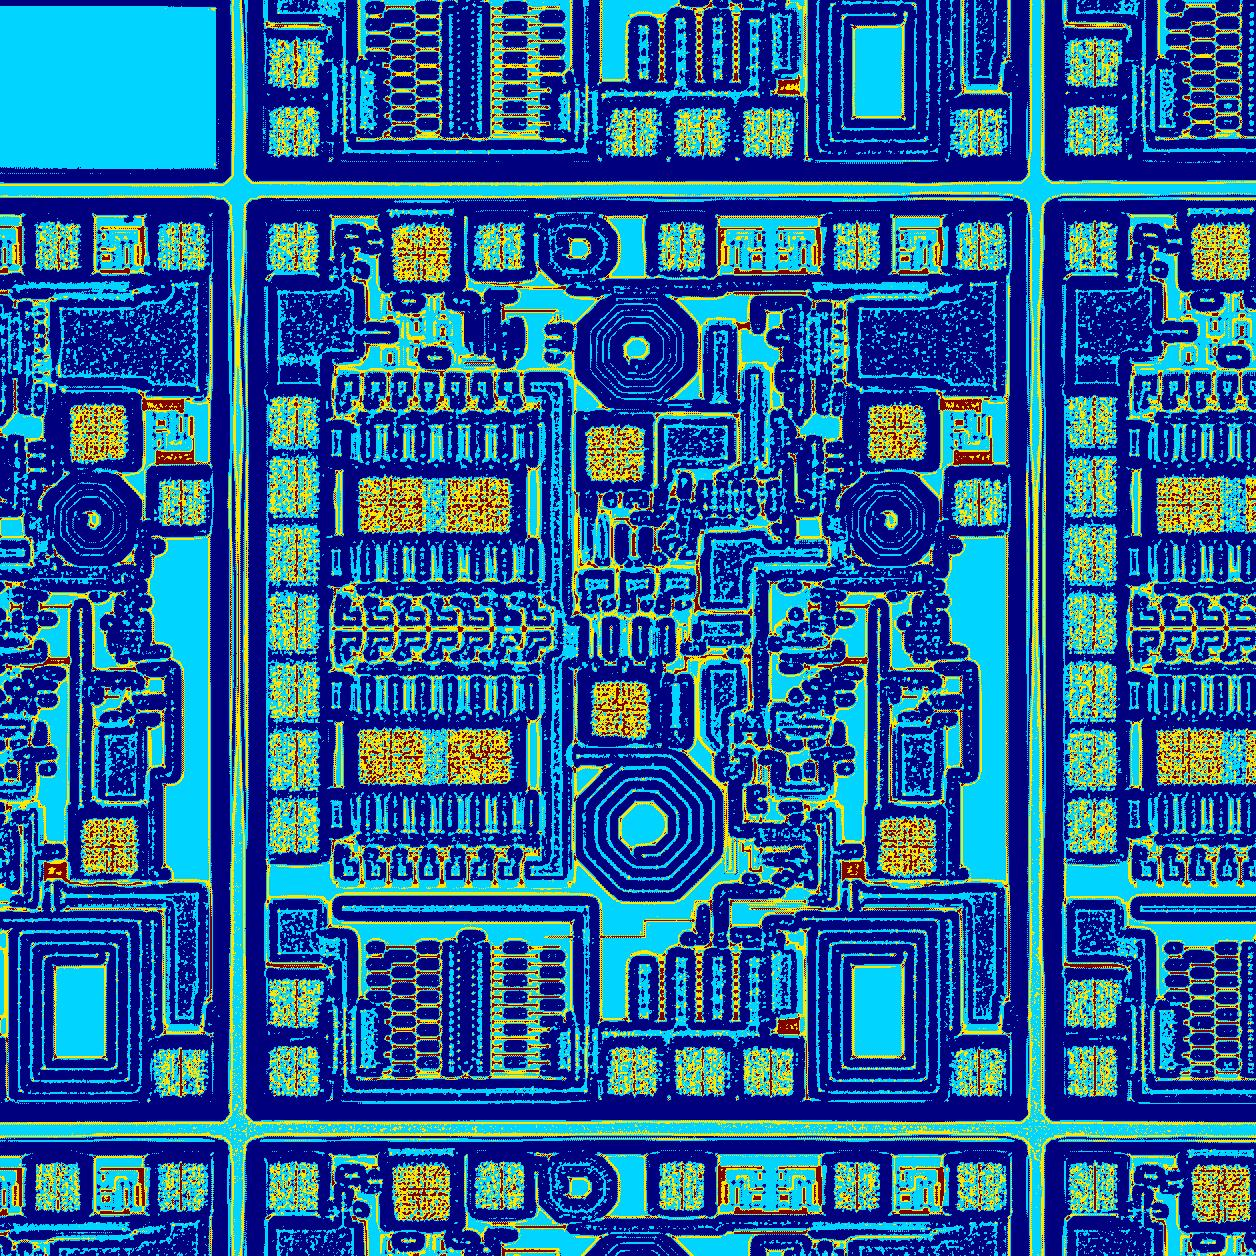Die: (242, 193, 1028, 1120)
Pad 1: (357, 726, 426, 784), (445, 726, 514, 783), (443, 476, 511, 533), (358, 476, 426, 533), (878, 815, 937, 876), (585, 424, 646, 482), (392, 224, 452, 282), (867, 404, 926, 460), (592, 681, 649, 738)
Pad 2: (266, 728, 321, 791), (266, 524, 321, 585), (267, 591, 320, 653), (268, 455, 320, 519), (268, 660, 320, 723), (267, 797, 321, 853), (267, 395, 320, 450), (267, 977, 322, 1028), (267, 1044, 320, 1096), (268, 222, 320, 275), (674, 1046, 728, 1096), (742, 1046, 792, 1096), (608, 1047, 660, 1096), (954, 1047, 1006, 1095), (475, 222, 526, 271), (954, 478, 1006, 526), (957, 222, 1005, 270), (658, 222, 705, 271), (833, 222, 880, 270)
